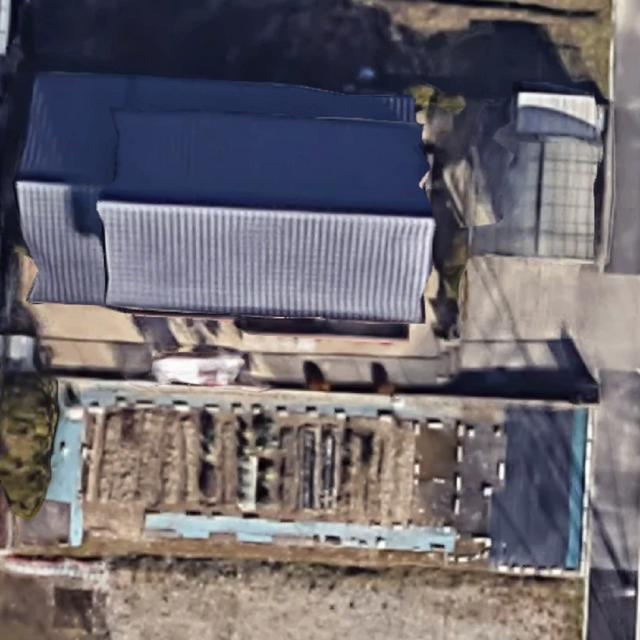Batiment: (16, 73, 434, 321), (465, 91, 602, 258)
